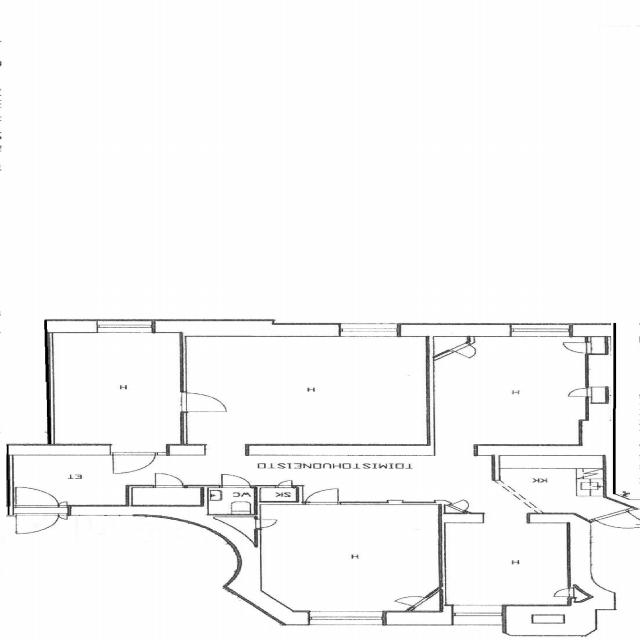door: (178, 392, 230, 412), (112, 451, 155, 474), (16, 513, 58, 534), (16, 487, 58, 507), (305, 487, 338, 505), (450, 342, 486, 358), (394, 592, 428, 607), (222, 472, 251, 488), (155, 472, 182, 488), (451, 498, 479, 510), (562, 342, 592, 353), (253, 519, 281, 528), (548, 588, 574, 597), (567, 388, 592, 396), (278, 479, 292, 488), (58, 514, 67, 520), (58, 502, 66, 508)
